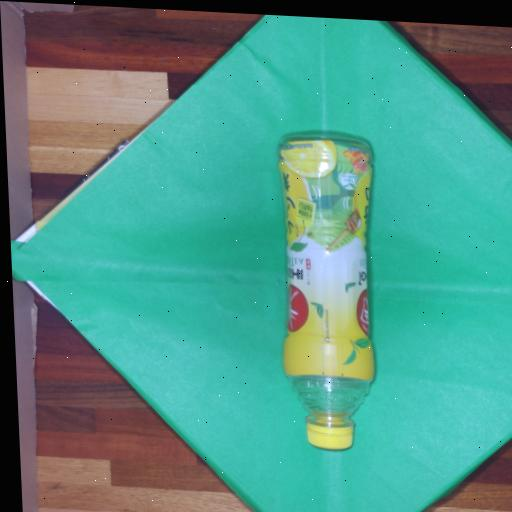bottle: (276, 132, 381, 454)
